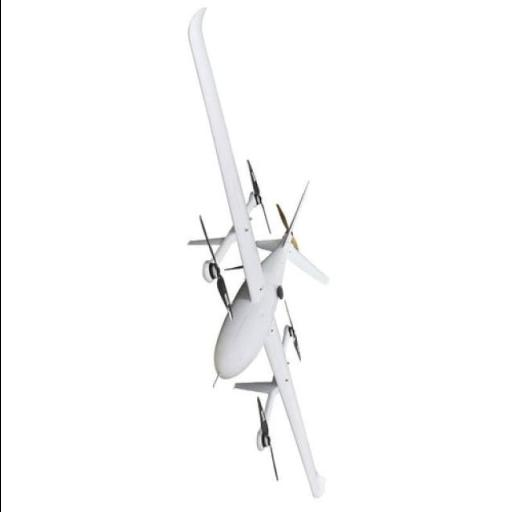uav: (146, 0, 342, 507)
